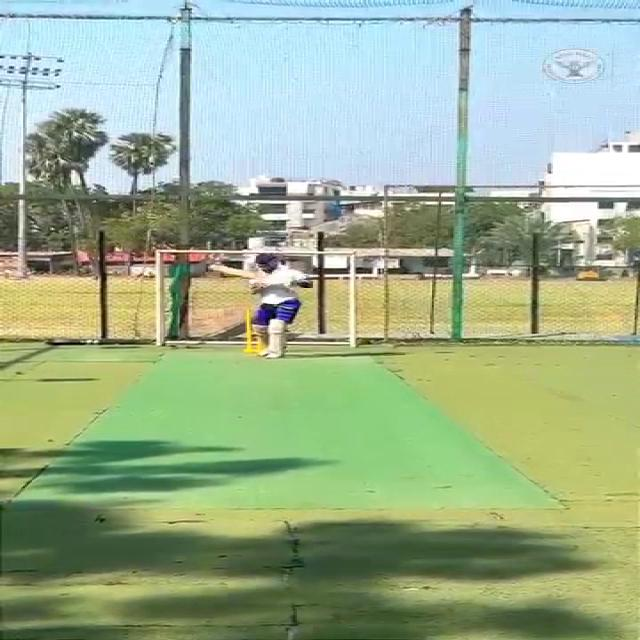batsman: (204, 252, 318, 360)
